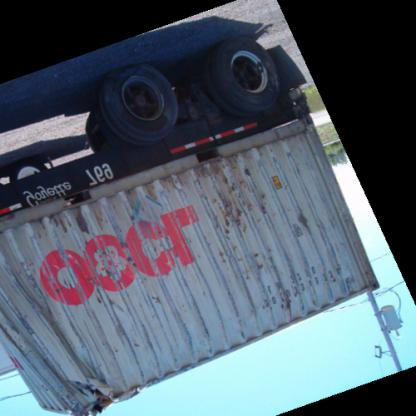Damage: (224, 145, 340, 308), (36, 166, 235, 236), (45, 356, 134, 415)
